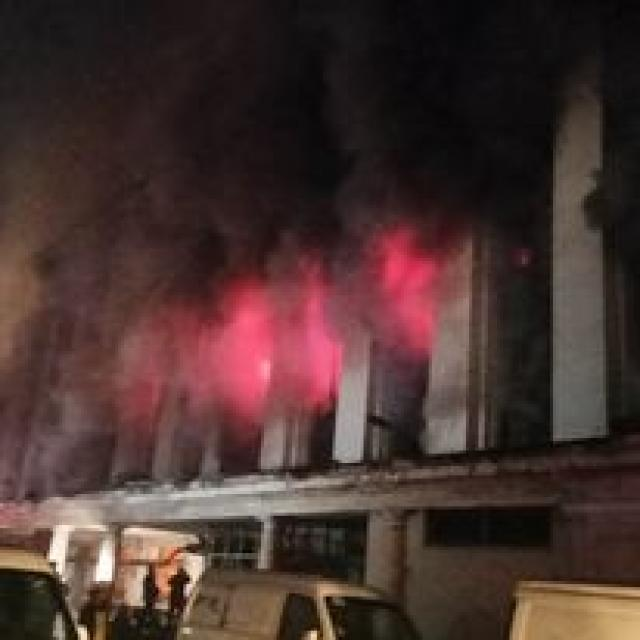Fire: (208, 303, 278, 426), (388, 235, 439, 358), (290, 291, 339, 413)
Smoke: (151, 0, 598, 241), (39, 225, 393, 332), (25, 324, 151, 478)
